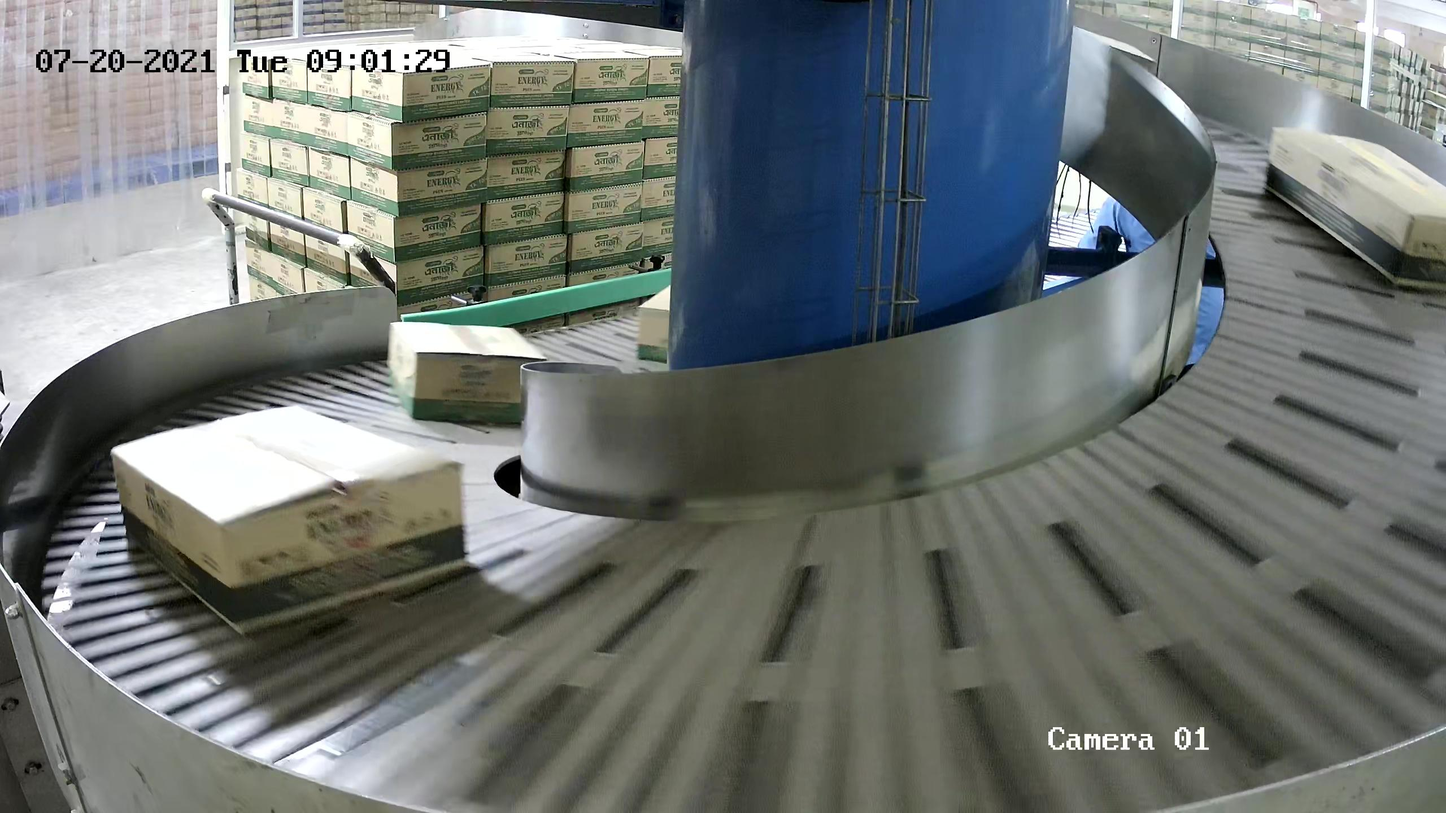Box: (107, 401, 469, 639), (1263, 123, 1446, 293), (386, 319, 549, 426), (636, 283, 671, 363)
